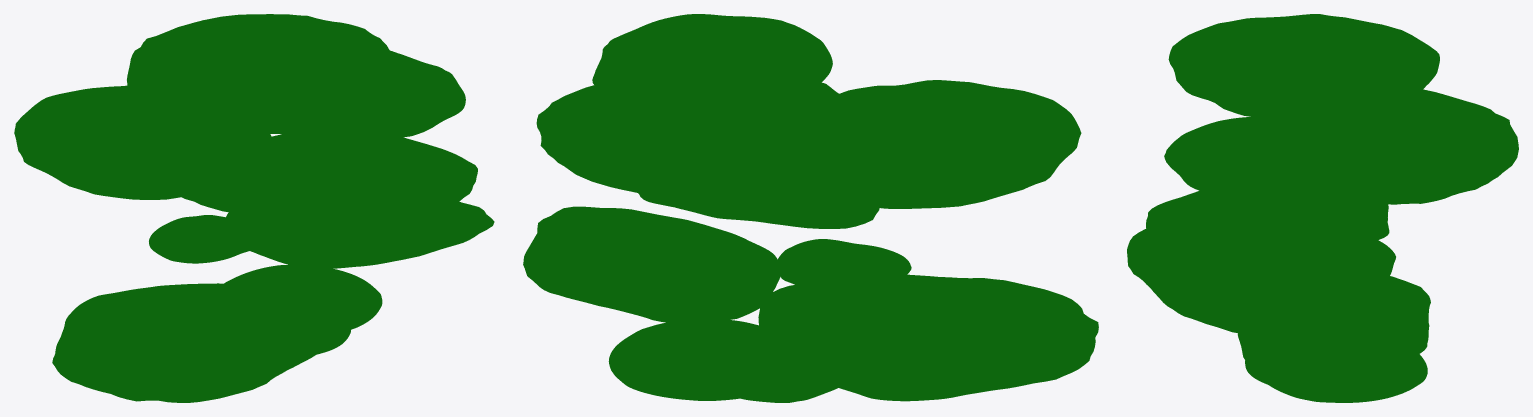
The picture shows the model from 3 angles, left to right: view 1: azimuth 30°, elevation 25°; view 2: azimuth 150°, elevation 25°; view 3: azimuth 270°, elevation 25°; orthographic projection. The views are drawn at different scales.
Size of the model in its own units: 0.9914 by 0.4954 by 0.7542.
